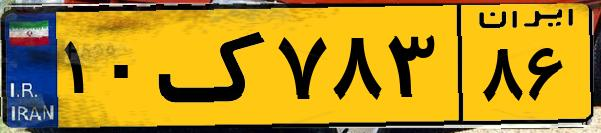0: (110, 28, 158, 98)
1: (57, 26, 110, 100)
3: (385, 28, 445, 110)
6: (525, 38, 570, 115)
7: (270, 28, 330, 110)
8: (330, 28, 385, 110), (475, 38, 525, 113)
ک: (158, 12, 270, 120)
